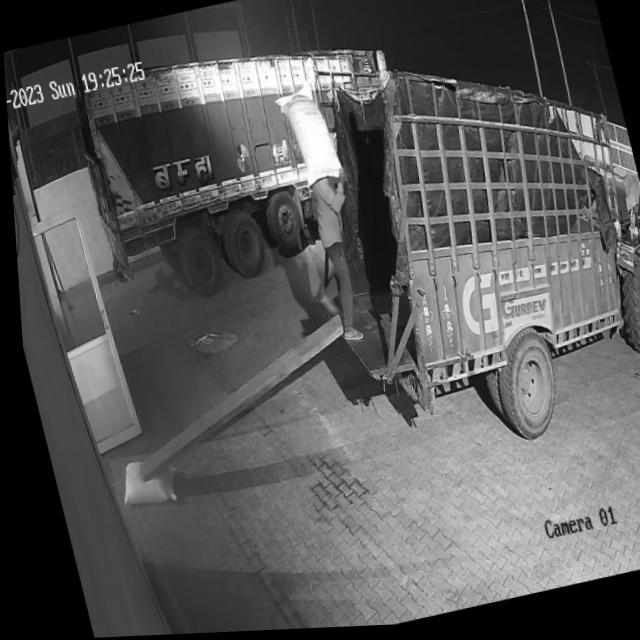sack: (272, 89, 342, 191), (108, 453, 175, 512)
